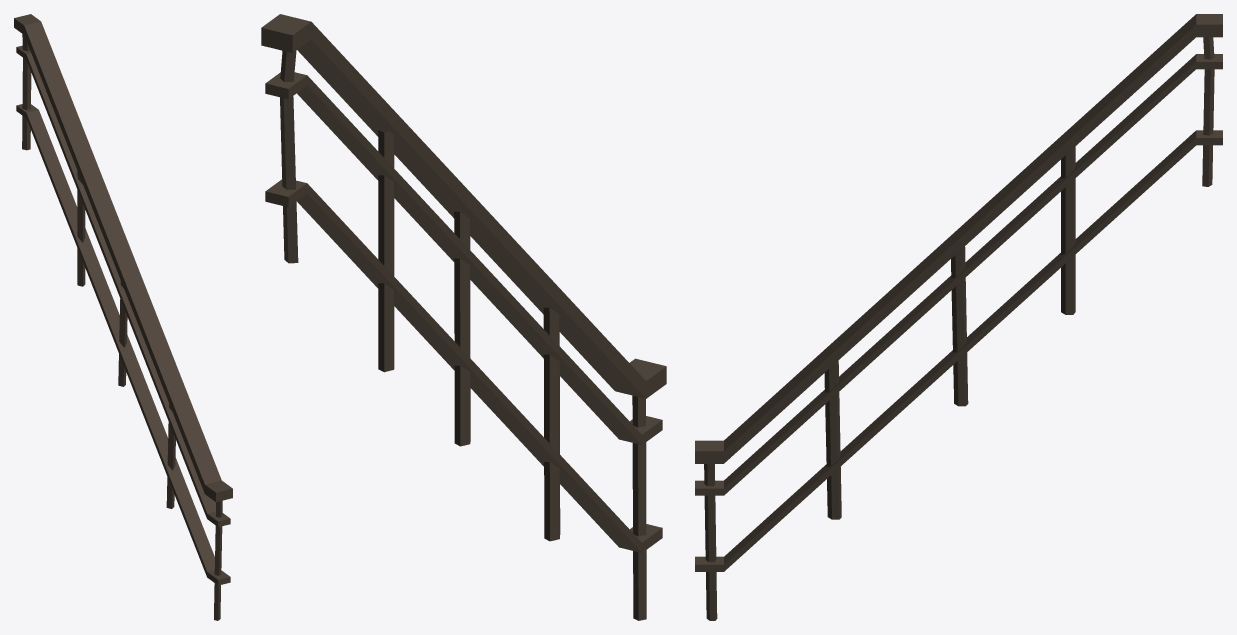
The model's file is SM_Bld_House_Stairs_04_Railing_02.fbx.
The picture shows the model from 3 angles, left to right: view 1: azimuth 30°, elevation 25°; view 2: azimuth 150°, elevation 25°; view 3: azimuth 270°, elevation 25°; orthographic projection. The views are drawn at different scales.
Visible parts, largest first — view 1: SM_Bld_House_Stairs_04_Railing_02; view 2: SM_Bld_House_Stairs_04_Railing_02; view 3: SM_Bld_House_Stairs_04_Railing_02.
Boxes of the visible parts, bbox=[...] form: SM_Bld_House_Stairs_04_Railing_02: bbox=[14, 14, 232, 620]; SM_Bld_House_Stairs_04_Railing_02: bbox=[261, 14, 666, 620]; SM_Bld_House_Stairs_04_Railing_02: bbox=[695, 14, 1222, 620].
Size of the model in its own units: 13.68 by 352 by 280.
